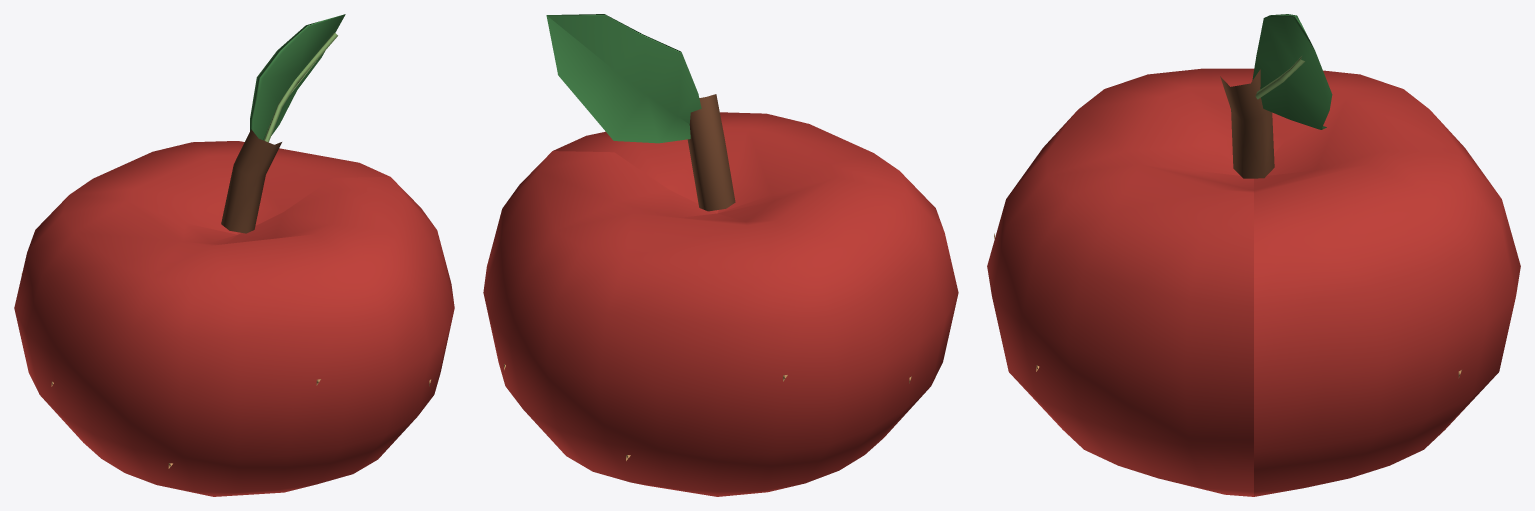
The model's file is fruta_manzana_lod.glb.
3 renders of one model, left to right at view 1: azimuth 30°, elevation 25°; view 2: azimuth 150°, elevation 25°; view 3: azimuth 270°, elevation 25°, orthographic. The views are drawn at different scales.
Visible parts, largest first — view 1: fruta_manzana; view 2: fruta_manzana; view 3: fruta_manzana.
Boxes of the visible parts, bbox=[...] form: fruta_manzana: bbox=[14, 14, 454, 496]; fruta_manzana: bbox=[483, 14, 958, 496]; fruta_manzana: bbox=[987, 14, 1520, 496].
Size of the model in its own units: 0.31 by 0.3102 by 0.31.
